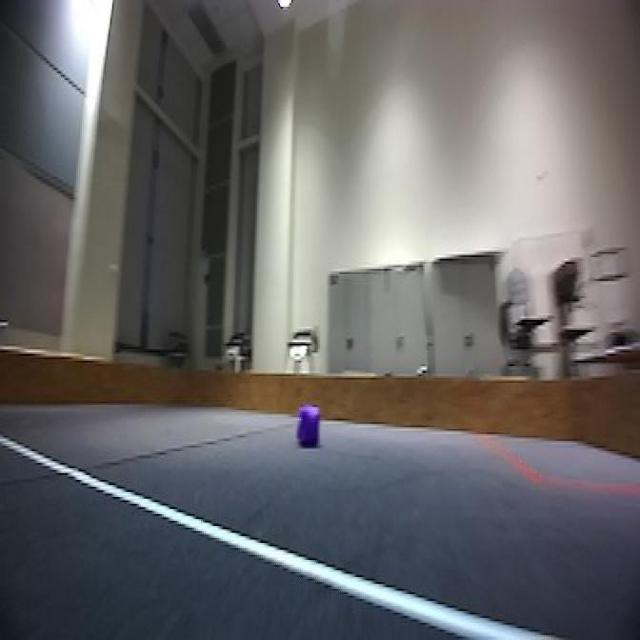frc_cube: (295, 400, 323, 448)
